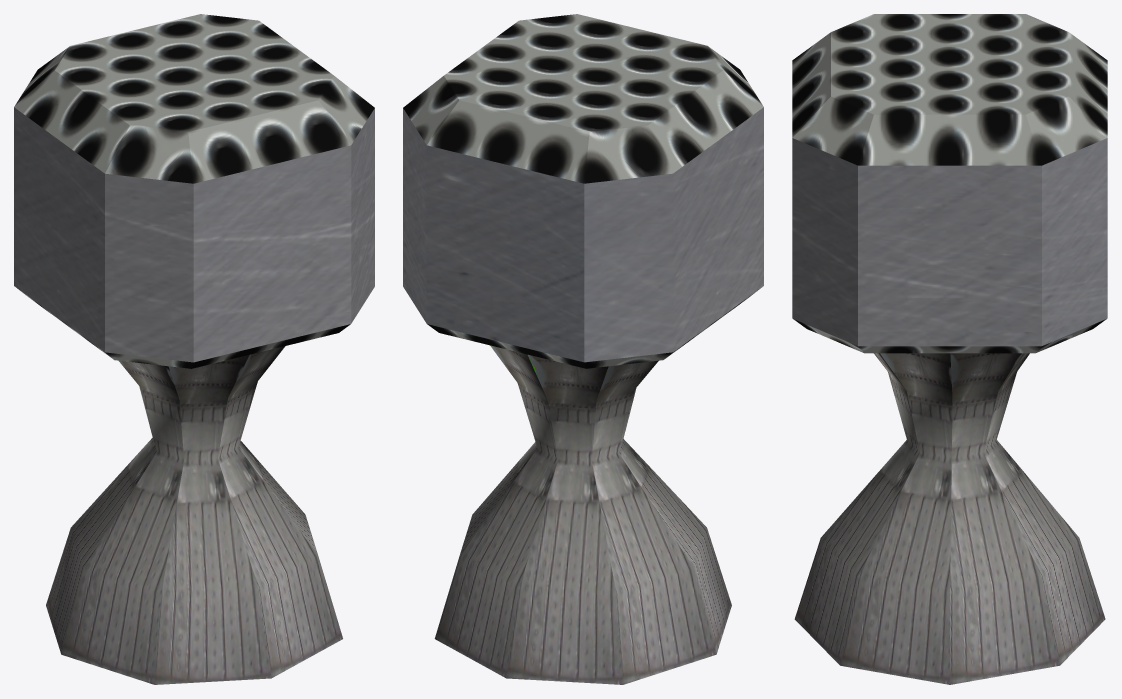
The model's file is Thruster.FBX.
3 views of the same model, side by side, from view 1: azimuth 30°, elevation 25°; view 2: azimuth 150°, elevation 25°; view 3: azimuth 270°, elevation 25° (orthographic).
Parts seen in each view (by area): view 1: Thruster; view 2: Thruster; view 3: Thruster.
Part boxes in pixels (x1,y1,x2,y2): Thruster: (14, 14, 374, 684); Thruster: (403, 14, 763, 684); Thruster: (792, 14, 1107, 684).
Bounding box in the file's own units: 8.86 × 17.22 × 8.86.
